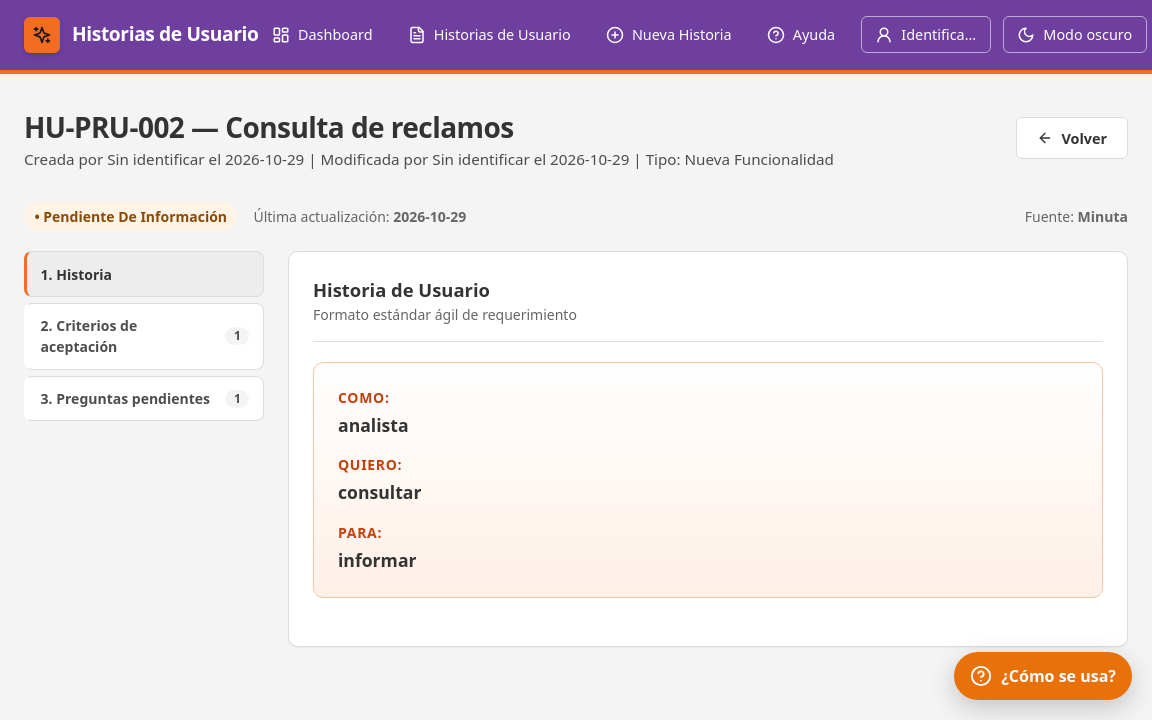
it: responder preguntas pendientes desde Editar › el detalle ofrece responder las preguntas pendientes
Click the tab "3. Preguntas pendientes 1". click: (144, 399)
box: [24, 376, 264, 421]
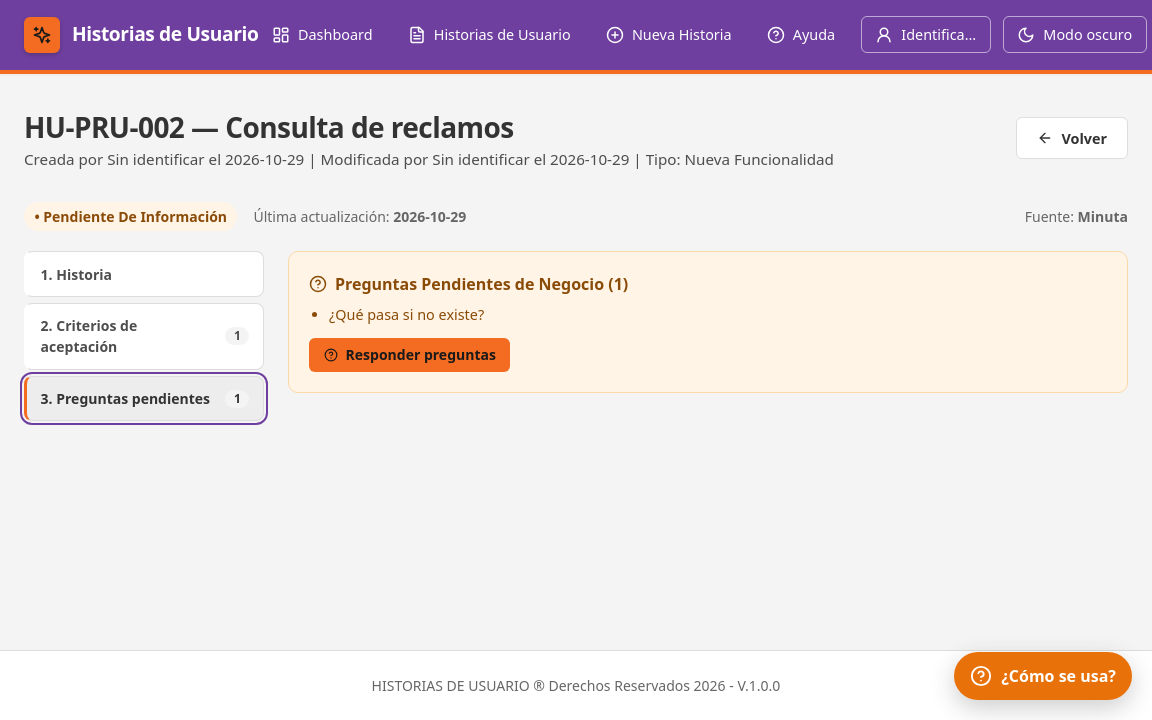
Click the button "Responder preguntas". click: (410, 355)
box: [309, 338, 510, 372]
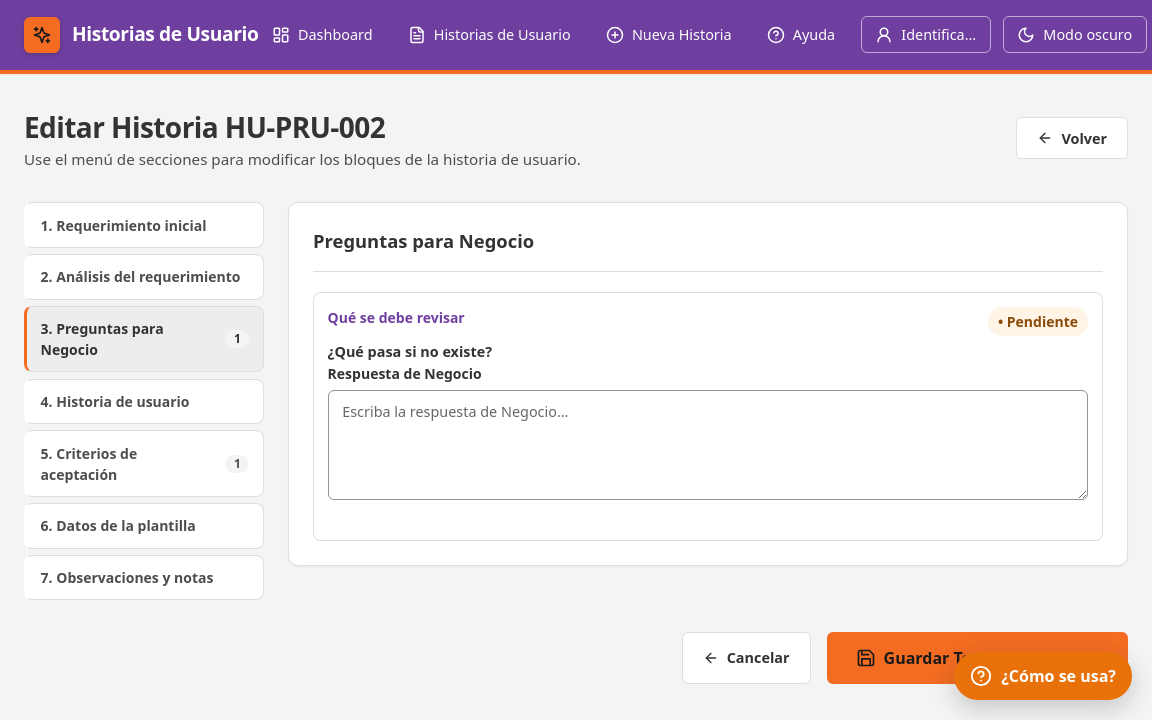
Now the heading "Editar Historia HU-PRU-002" is shown, box [24, 108, 385, 146]
Now the text box labelled "Respuesta de Negocio" is shown, box [328, 390, 1088, 500]
